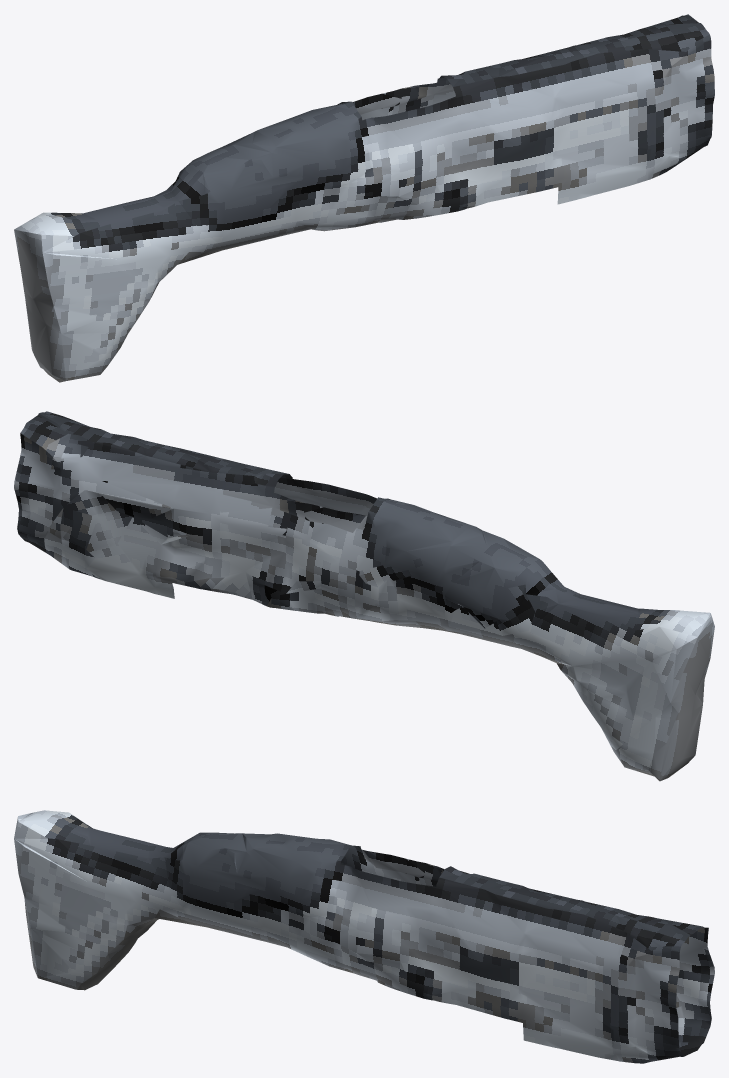
The model's file is cuerpo_culata.glb.
3 renders of one model, top to bottom at view 1: azimuth 30°, elevation 25°; view 2: azimuth 150°, elevation 25°; view 3: azimuth 330°, elevation 25°, orthographic.
Parts seen in each view (by area): view 1: geometry_0; view 2: geometry_0; view 3: geometry_0.
Boxes of the visible parts, x1,y1,x2,y2 form: geometry_0: [14, 14, 714, 382]; geometry_0: [14, 411, 714, 781]; geometry_0: [14, 810, 714, 1063].
Bounding box in the file's own units: 0.7823 × 0.2282 × 0.0847.
Materials: 1 (1 with a texture image).
